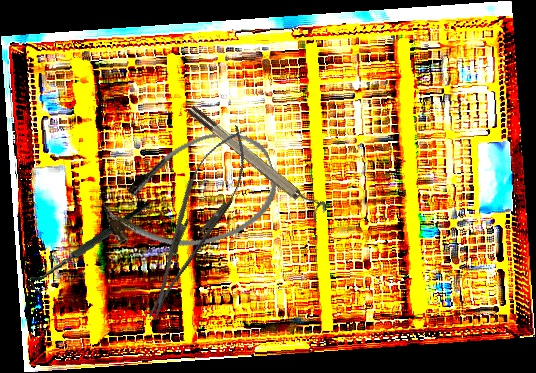Cannula: (92, 118, 289, 271)
Fixation Ring: (185, 97, 330, 224)
Hook Surgical: (20, 202, 160, 296)
Needle Holder: (129, 117, 262, 329)
